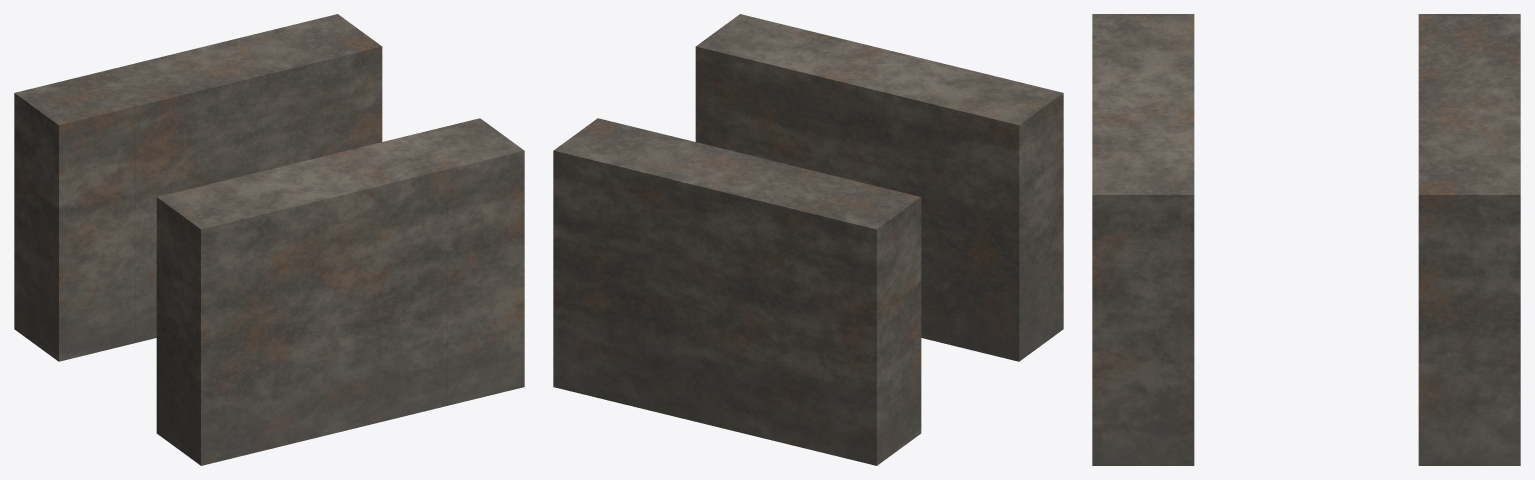
File: dungeon_cave_passage_rise.glb
3 renders of one model, left to right at view 1: azimuth 30°, elevation 25°; view 2: azimuth 150°, elevation 25°; view 3: azimuth 270°, elevation 25°, orthographic. The views are drawn at different scales.
Visible parts, largest first — view 1: dungeon_cave_passage_rise; view 2: dungeon_cave_passage_rise; view 3: dungeon_cave_passage_rise.
Part boxes in pixels (x1,y1,x2,y2): dungeon_cave_passage_rise: [14, 14, 524, 465]; dungeon_cave_passage_rise: [553, 14, 1063, 465]; dungeon_cave_passage_rise: [1092, 14, 1520, 465].
Bounding box in the file's own units: 5 × 3.5 × 5.
Materials: 1 (1 with a texture image).
